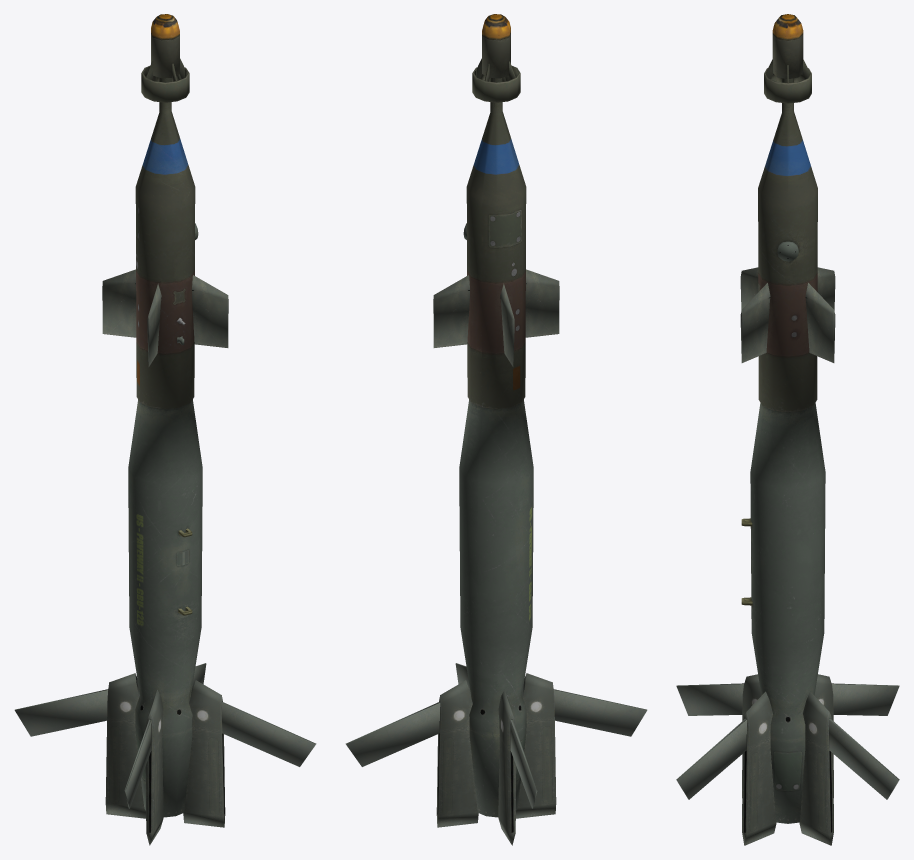
Rendered from gbu-12-paveway-ii.glb.
3 renders of one model, left to right at view 1: azimuth 30°, elevation 25°; view 2: azimuth 150°, elevation 25°; view 3: azimuth 270°, elevation 25°, orthographic.
Visible parts, largest first — view 1: GBU-12 Paveway II; view 2: GBU-12 Paveway II; view 3: GBU-12 Paveway II.
Part boxes in pixels (x1,y1,x2,y2): GBU-12 Paveway II: (14,14,316,845); GBU-12 Paveway II: (345,14,647,845); GBU-12 Paveway II: (676,14,899,845).
Bounding box in the file's own units: 0.5979 × 2.4 × 0.5979.
1 material, 1 textured.
